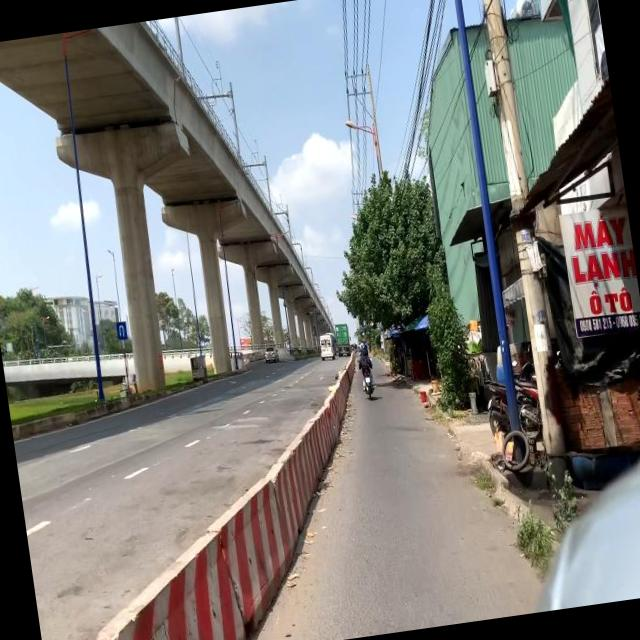I-409: (115, 322, 127, 341)
